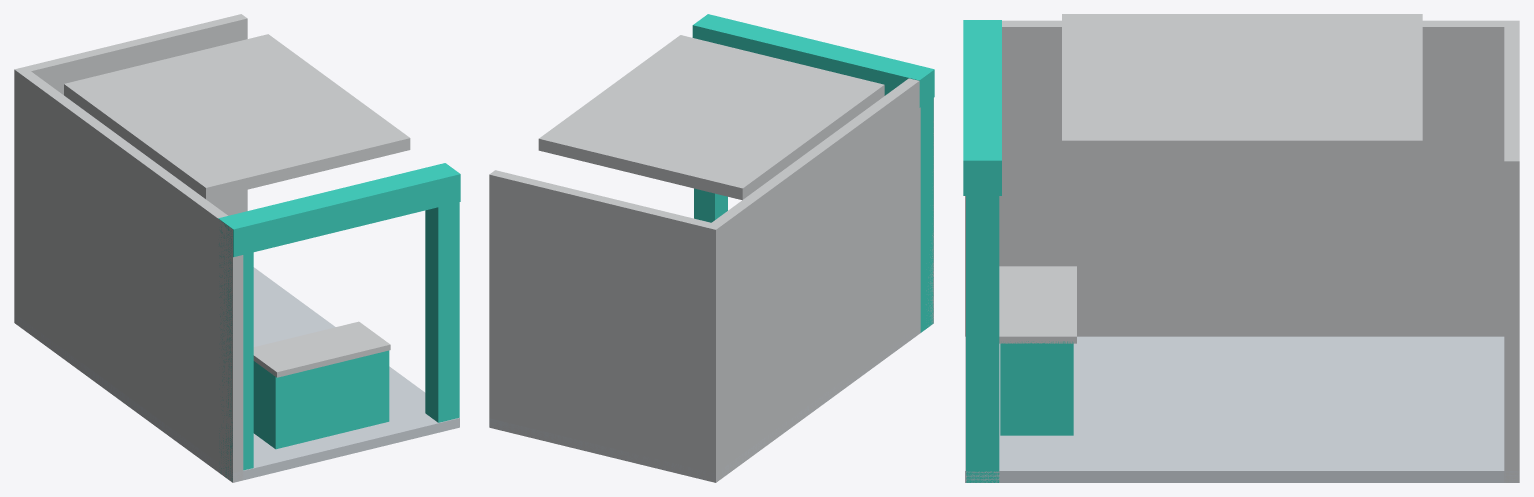
3 views of the same model, side by side, from view 1: azimuth 30°, elevation 25°; view 2: azimuth 150°, elevation 25°; view 3: azimuth 270°, elevation 25° (orthographic). The views are drawn at different scales.
Parts seen in each view (by area): view 1: Exhibition Booth Concept; view 2: Exhibition Booth Concept; view 3: Exhibition Booth Concept.
Boxes of the visible parts, left/top/right/bottom form: Exhibition Booth Concept: left=14, top=14, right=460, bottom=482; Exhibition Booth Concept: left=489, top=14, right=934, bottom=482; Exhibition Booth Concept: left=963, top=14, right=1519, bottom=482.
Size of the model in its own units: 3 by 3.34 by 5.02.
